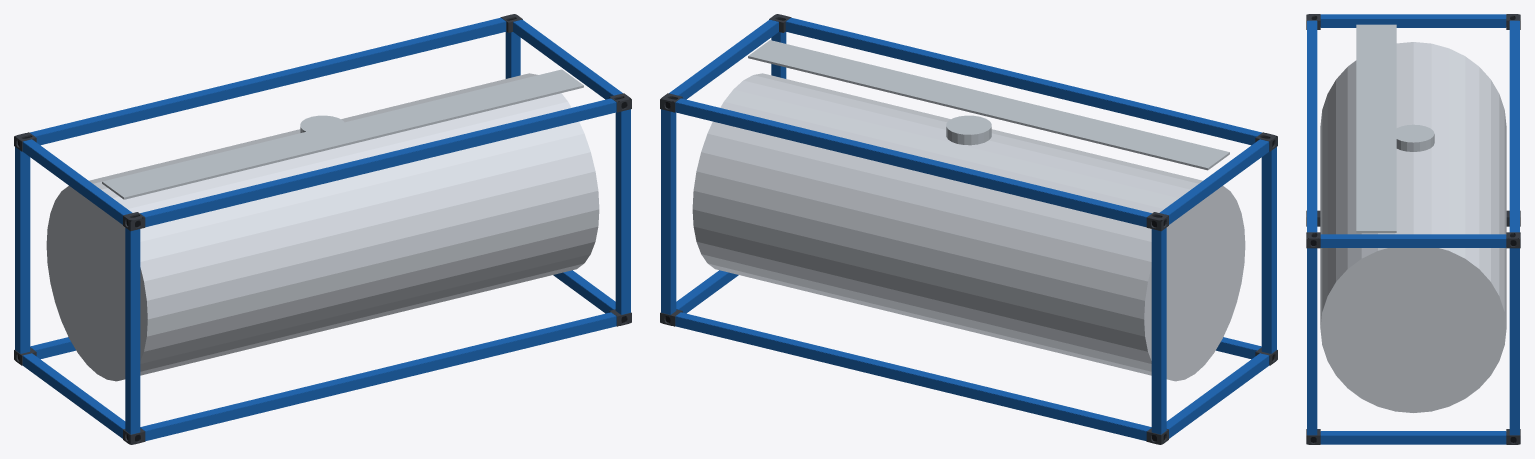
The model's file is iso_20ft_tk_22k2.obj.
3 views of the same model, side by side, from view 1: azimuth 30°, elevation 25°; view 2: azimuth 150°, elevation 25°; view 3: azimuth 270°, elevation 25° (orthographic). The views are drawn at different scales.
Visible parts, largest first — view 1: 04_Stainless_Tank_Barrel, 02_ISOTank_Frame, 06_Catwalk_And_Ladder, 01_ISO_Corner_Castings_Hollow3D; view 2: 04_Stainless_Tank_Barrel, 02_ISOTank_Frame, 06_Catwalk_And_Ladder, 01_ISO_Corner_Castings_Hollow3D; view 3: 04_Stainless_Tank_Barrel, 02_ISOTank_Frame, 06_Catwalk_And_Ladder, 01_ISO_Corner_Castings_Hollow3D, 01_ISO_Corner_Castings_Hollow3D_Cavity.
Boxes of the visible parts, x1,y1,x2,y2 form: 04_Stainless_Tank_Barrel: (46, 73, 599, 381); 02_ISOTank_Frame: (15, 17, 630, 441); 06_Catwalk_And_Ladder: (102, 69, 583, 199); 01_ISO_Corner_Castings_Hollow3D: (14, 14, 631, 444); 04_Stainless_Tank_Barrel: (692, 73, 1245, 381); 02_ISOTank_Frame: (661, 17, 1276, 441); 06_Catwalk_And_Ladder: (748, 40, 1229, 170); 01_ISO_Corner_Castings_Hollow3D: (660, 14, 1277, 444); 04_Stainless_Tank_Barrel: (1320, 42, 1506, 412); 02_ISOTank_Frame: (1307, 14, 1519, 444); 06_Catwalk_And_Ladder: (1356, 24, 1434, 232); 01_ISO_Corner_Castings_Hollow3D: (1306, 14, 1520, 444); 01_ISO_Corner_Castings_Hollow3D_Cavity: (1308, 17, 1518, 442).
Size of the model in its own units: 6.06 by 2.59 by 2.44.
